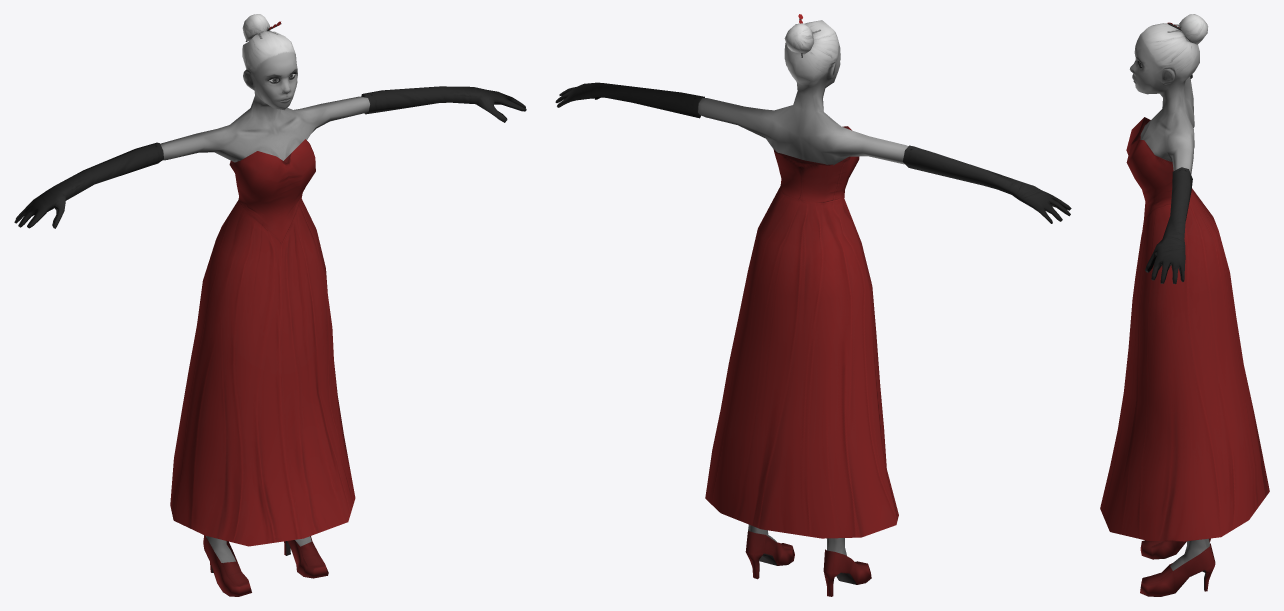
The model's file is Female.obj.
The picture shows the model from 3 angles, left to right: view 1: azimuth 30°, elevation 25°; view 2: azimuth 150°, elevation 25°; view 3: azimuth 270°, elevation 25°; orthographic projection.
Parts seen in each view (by area): view 1: Female; view 2: Female; view 3: Female.
Boxes of the visible parts, x1,y1,x2,y2 form: Female: (14, 14, 526, 596); Female: (555, 14, 1071, 596); Female: (1100, 14, 1269, 596).
Size of the model in its own units: 20.33 by 21.23 by 5.86.
Materials: 1 (1 with a texture image).
